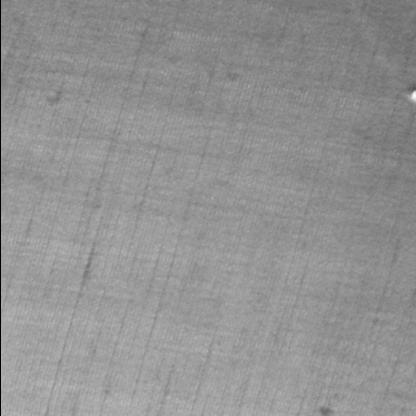hole: (404, 88, 416, 106)
